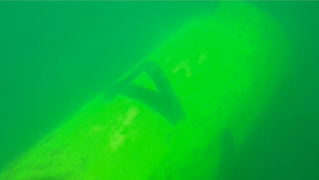4: (99, 59, 187, 126), (216, 126, 235, 180)
pipe: (1, 1, 294, 180)
